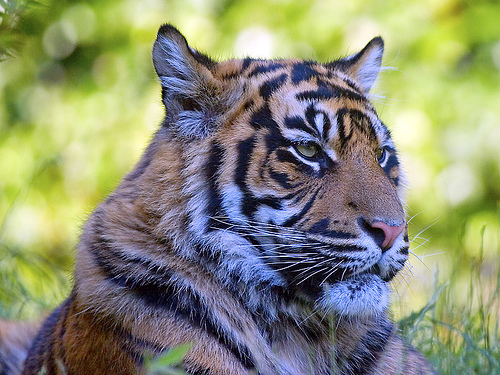Tigre: (82, 11, 439, 372)
